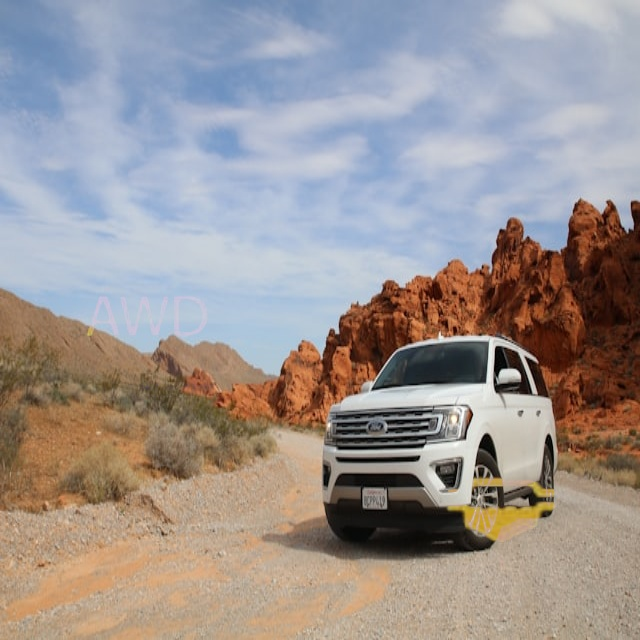symbol: (396, 420, 611, 635), (65, 237, 227, 399)
